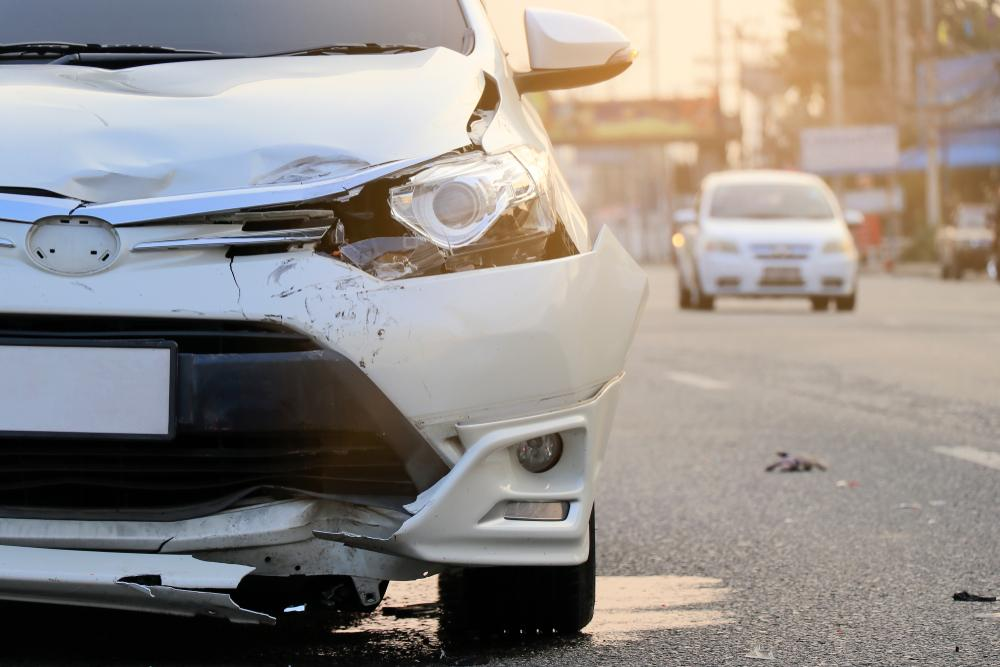crack: (114, 573, 237, 596), (228, 257, 242, 305), (157, 532, 178, 552)
dent: (60, 124, 368, 204), (76, 57, 367, 98), (293, 499, 376, 550)
lamp broken: (312, 149, 576, 281)
scratch: (261, 251, 412, 372)
